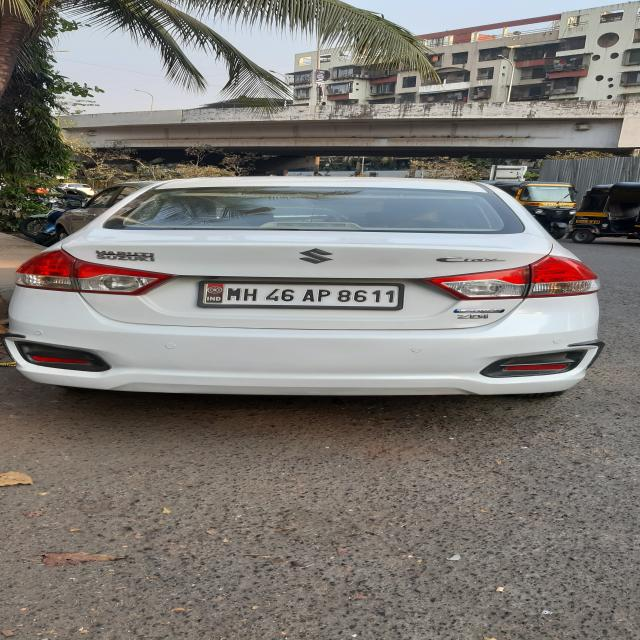Number-Plate: (202, 284, 408, 307)
